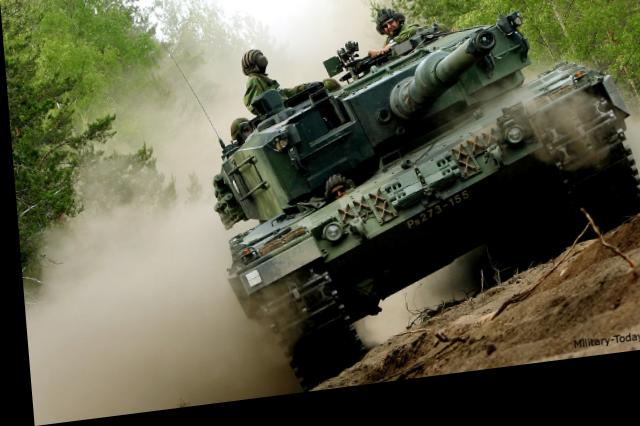other: (230, 43, 304, 129), (358, 0, 437, 73)
tank: (183, 0, 640, 368)
